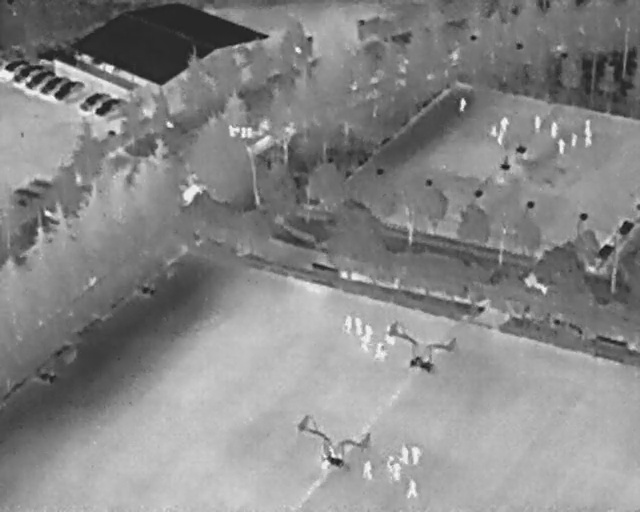Car: (76, 84, 113, 117), (50, 73, 87, 105), (9, 56, 45, 88), (90, 91, 127, 120), (36, 68, 70, 98), (22, 64, 56, 94), (3, 53, 28, 75)
Person: (410, 444, 422, 466), (374, 342, 387, 362), (399, 444, 410, 466), (407, 478, 419, 498), (383, 326, 396, 344), (343, 314, 353, 337), (555, 137, 567, 155), (392, 462, 403, 481), (363, 461, 374, 480), (498, 114, 509, 132), (582, 118, 594, 134), (533, 114, 543, 132), (354, 315, 362, 337), (549, 121, 558, 139), (385, 454, 395, 470), (360, 337, 371, 351), (458, 95, 467, 112), (569, 131, 578, 148), (364, 322, 373, 339), (489, 123, 498, 138), (584, 132, 592, 148), (497, 131, 504, 147)
